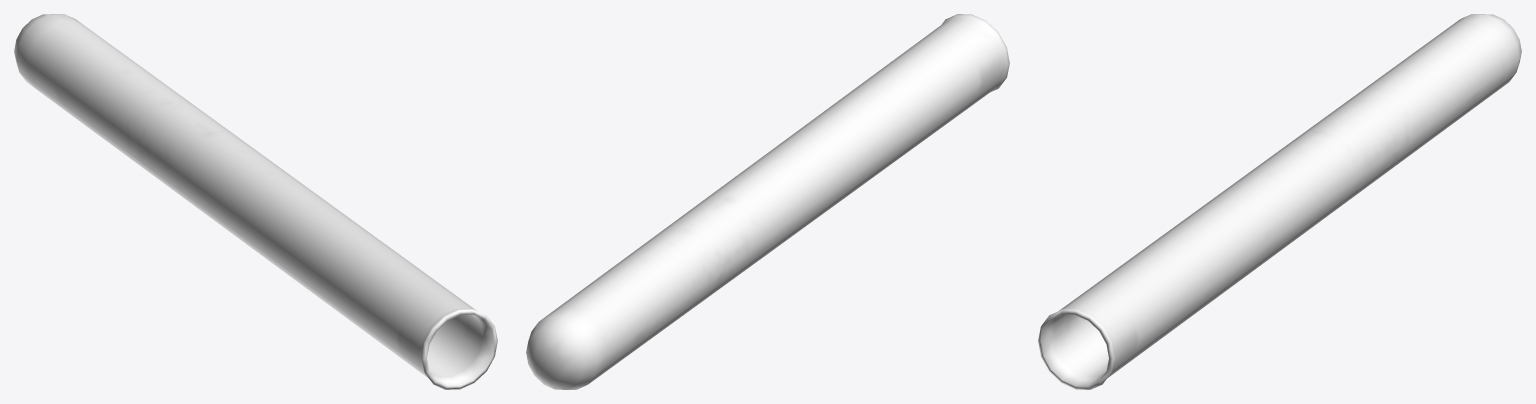
3 views of the same model, side by side, from view 1: azimuth 30°, elevation 25°; view 2: azimuth 150°, elevation 25°; view 3: azimuth 330°, elevation 25° (orthographic).
Parts seen in each view (by area): view 1: test_tube_a; view 2: test_tube_a; view 3: test_tube_a.
Boxes of the visible parts, box(x1,y1,x2,y2) form: test_tube_a: box(14, 14, 497, 389); test_tube_a: box(526, 14, 1009, 389); test_tube_a: box(1038, 14, 1521, 389).
Bounding box in the file's own units: 0.0154 × 0.0154 × 0.1495.
Materials: 1 (1 with a texture image).
